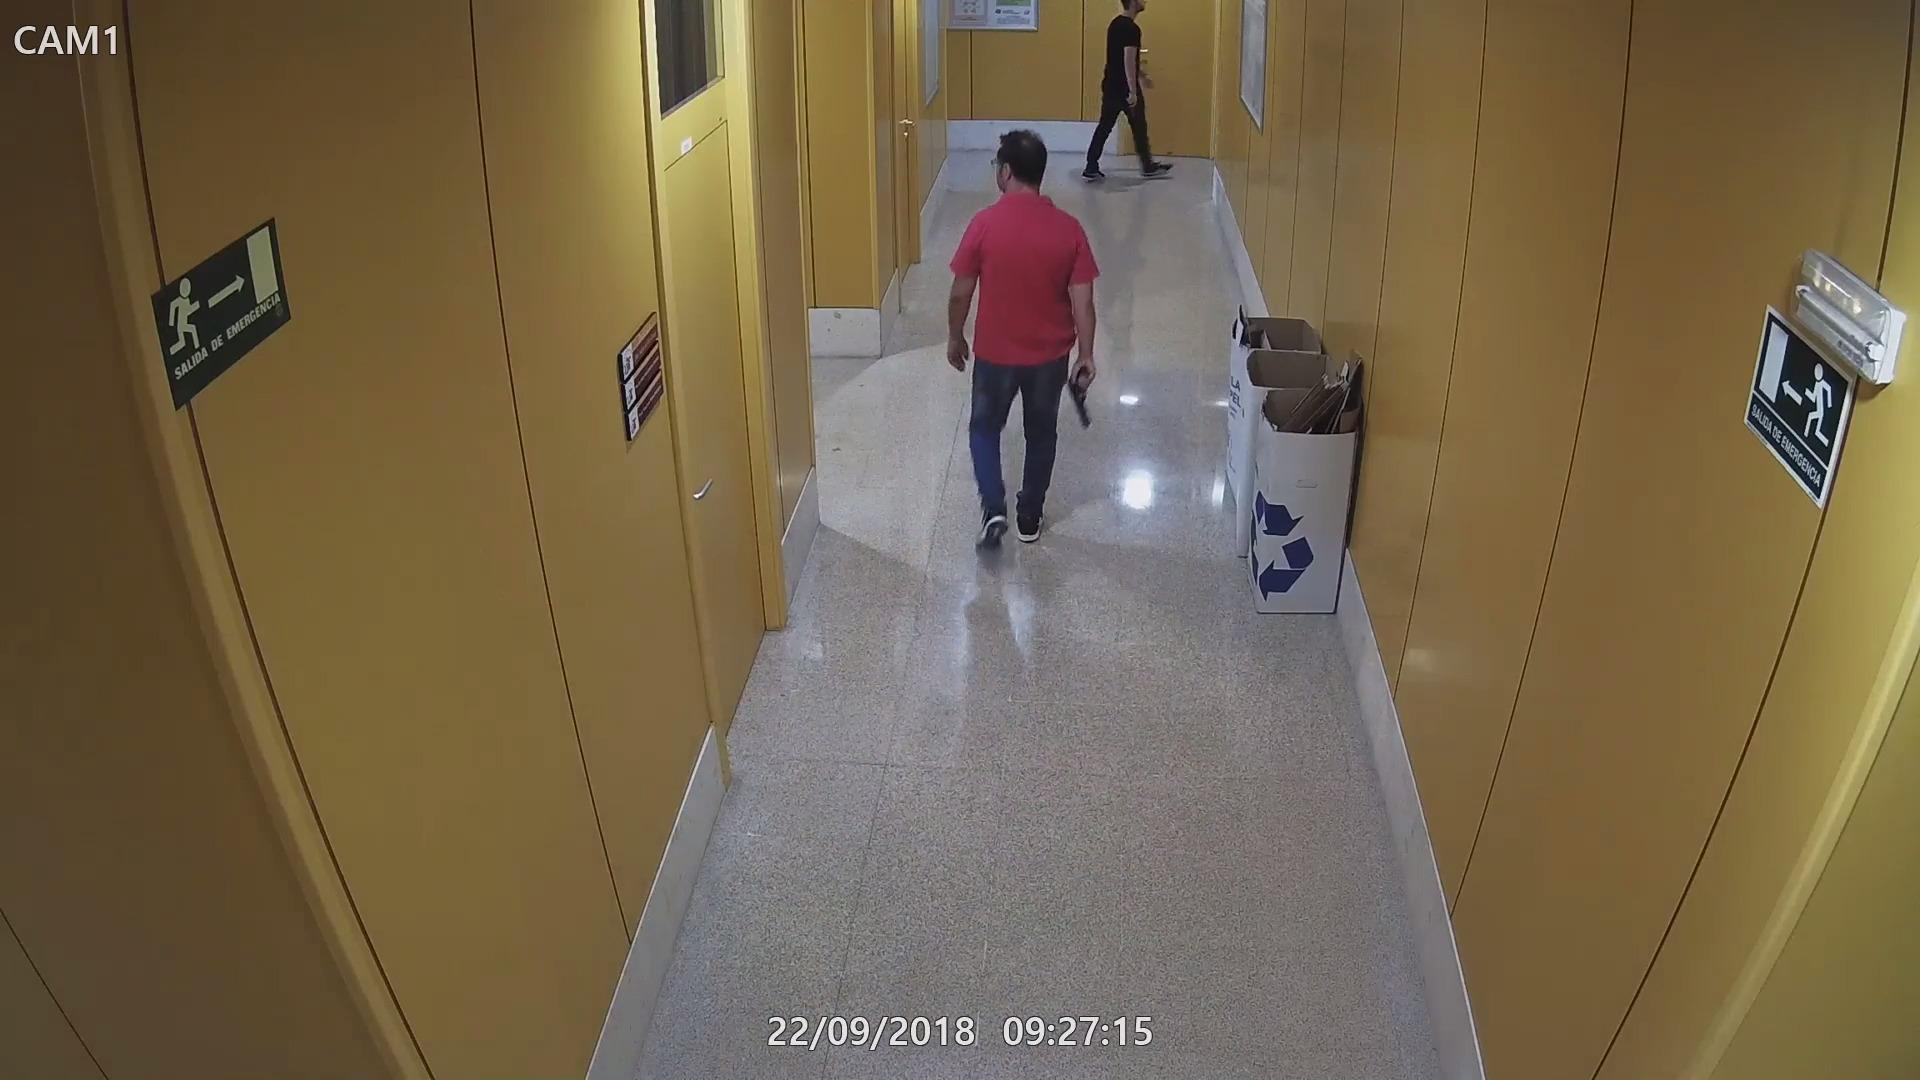Handgun: (1060, 360, 1098, 427), (1118, 90, 1145, 116)
